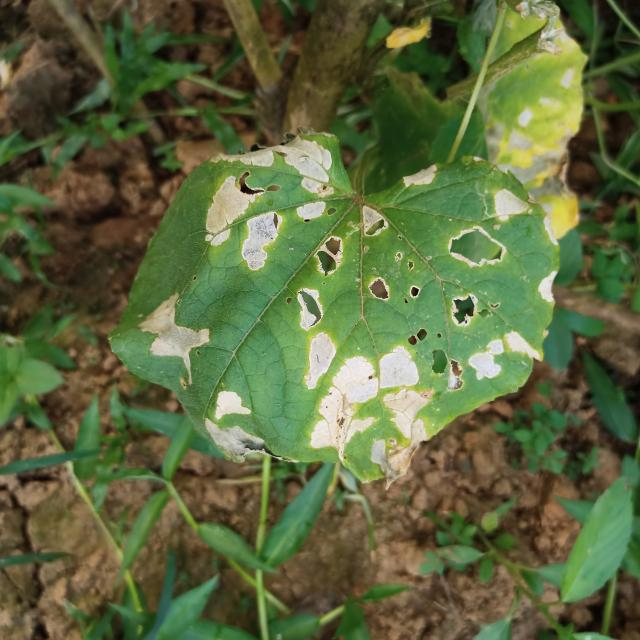disease_cucumber: (132, 146, 546, 448)
